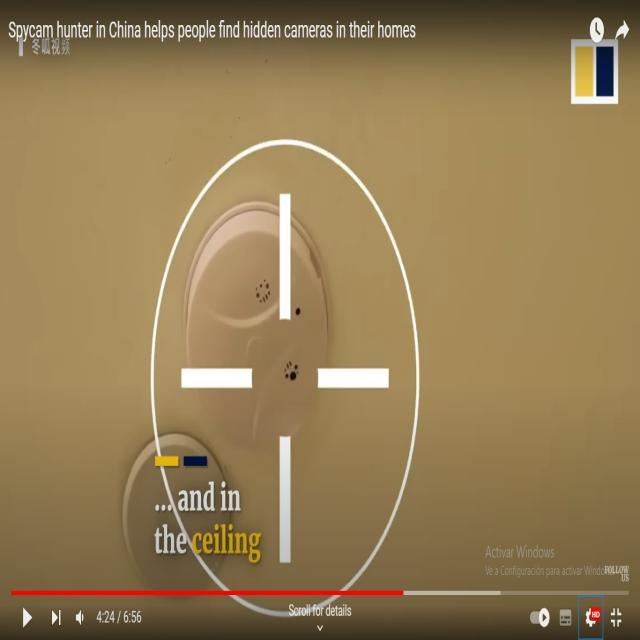hidden camera: (290, 371, 297, 381)
